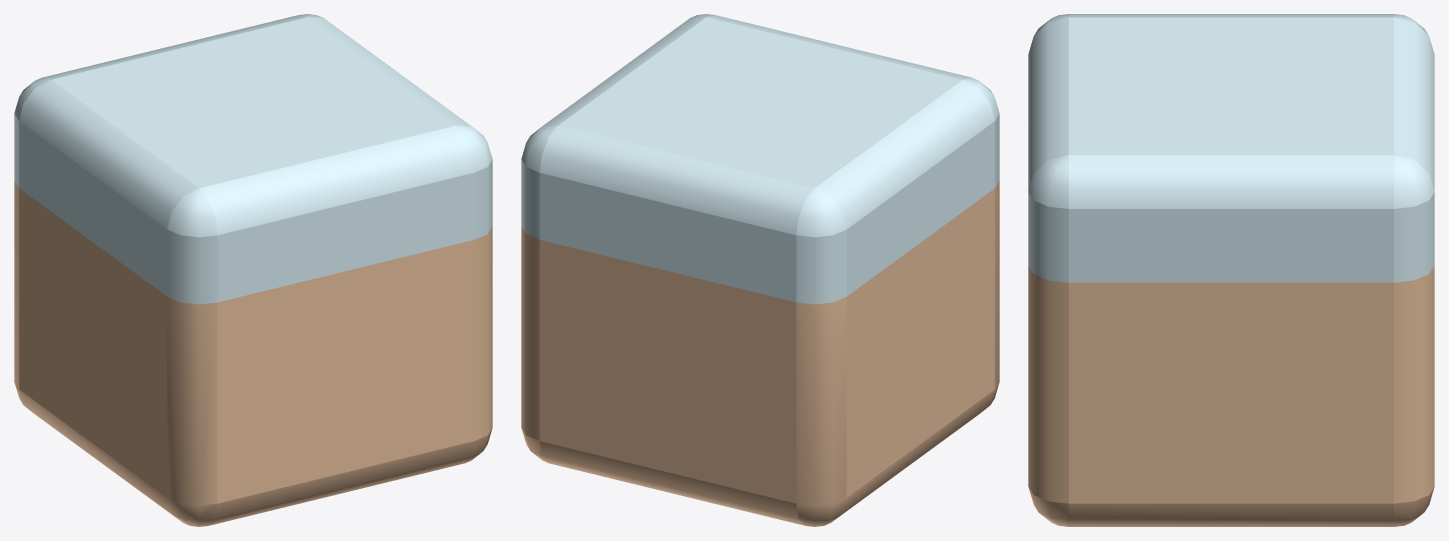
Rendered from blockSnowRounded.glb.
3 views of the same model, side by side, from view 1: azimuth 30°, elevation 25°; view 2: azimuth 150°, elevation 25°; view 3: azimuth 270°, elevation 25° (orthographic). The views are drawn at different scales.
Parts seen in each view (by area): view 1: blockSnowRounded; view 2: blockSnowRounded; view 3: blockSnowRounded.
Boxes of the visible parts, box(x1,y1,x2,y2) form: blockSnowRounded: box(14, 14, 492, 526); blockSnowRounded: box(521, 14, 999, 526); blockSnowRounded: box(1028, 14, 1434, 526).
Bounding box in the file's own units: 1 × 1 × 1.
